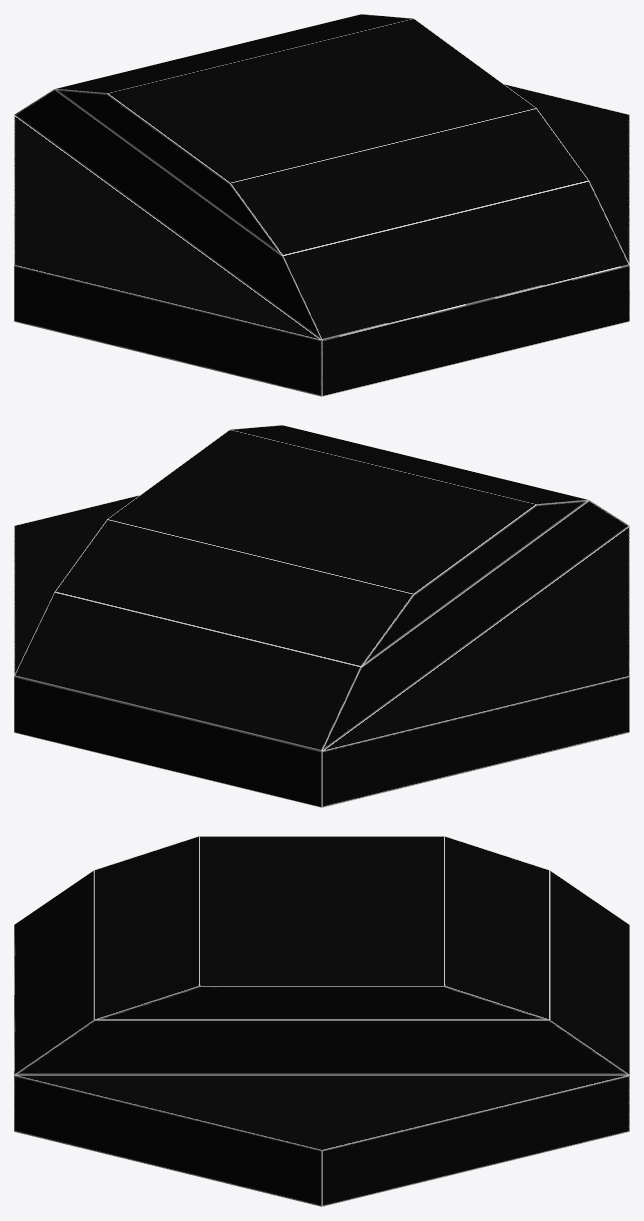
3 views of the same model, one above another, from view 1: azimuth 30°, elevation 25°; view 2: azimuth 150°, elevation 25°; view 3: azimuth 270°, elevation 25° (orthographic).
Parts seen in each view (by area): view 1: DD_07; view 2: DD_07; view 3: DD_07.
Boxes of the visible parts, bbox=[...] form: DD_07: bbox=[14, 14, 629, 396]; DD_07: bbox=[14, 425, 629, 807]; DD_07: bbox=[14, 836, 629, 1206].
Size of the model in its own units: 278 by 62.88 by 241.
Materials: 1 (1 with a texture image).
